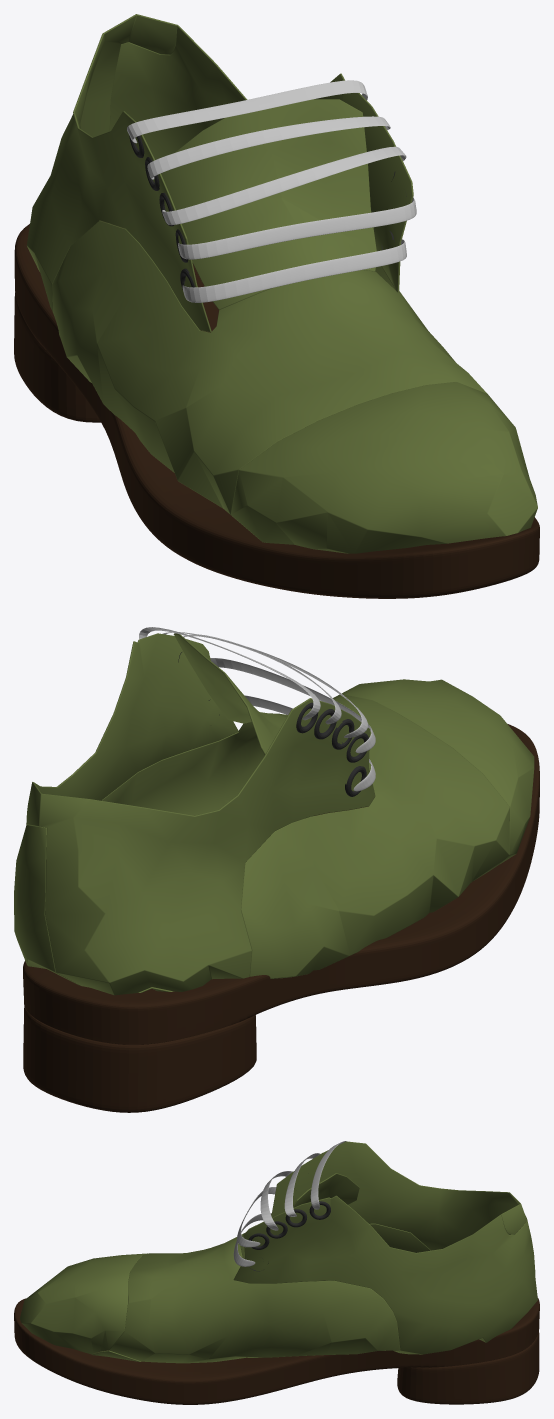
File: za1pri2derecha.fbx
3 views of the same model, one above another, from view 1: azimuth 30°, elevation 25°; view 2: azimuth 150°, elevation 25°; view 3: azimuth 270°, elevation 25° (orthographic). The views are drawn at different scales.
Parts seen in each view (by area): view 1: ZAPATO1_3, Plane, Plane.002, Plane.005, Plane.001, Plane.004, Plane.003; view 2: ZAPATO1_3, Plane, Plane.002, Plane.004, Plane.005, Plane.001; view 3: ZAPATO1_3, Plane, Plane.001, Plane.004, Plane.003, Plane.002, Plane.005.
Part boxes in pixels (left/top/right/bottom): ZAPATO1_3: left=27, top=14, right=537, bottom=553; Plane: left=14, top=224, right=539, bottom=598; Plane.002: left=178, top=197, right=416, bottom=259; Plane.005: left=182, top=239, right=406, bottom=302; Plane.001: left=162, top=146, right=406, bottom=224; Plane.004: left=127, top=80, right=367, bottom=143; Plane.003: left=147, top=116, right=390, bottom=179; ZAPATO1_3: left=14, top=633, right=534, bottom=995; Plane: left=23, top=724, right=539, bottom=1112; Plane.002: left=210, top=658, right=375, bottom=753; Plane.004: left=139, top=627, right=320, bottom=720; Plane.005: left=244, top=695, right=375, bottom=791; Plane.001: left=183, top=634, right=367, bottom=737; ZAPATO1_3: left=19, top=1141, right=537, bottom=1363; Plane: left=14, top=1298, right=539, bottom=1404; Plane.001: left=260, top=1171, right=293, bottom=1230; Plane.004: left=310, top=1141, right=347, bottom=1209; Plane.003: left=284, top=1153, right=320, bottom=1216; Plane.002: left=237, top=1187, right=276, bottom=1247; Plane.005: left=233, top=1213, right=271, bottom=1266.
Bounding box in the file's own units: 174 × 204 × 447.
